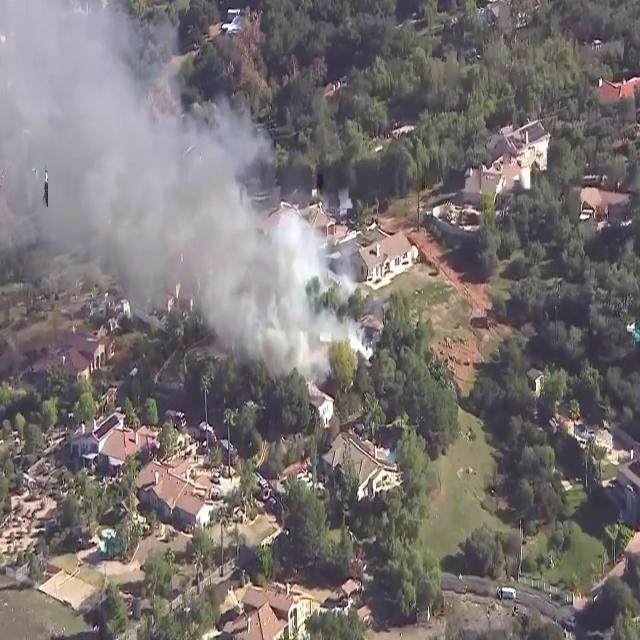Smoke: (0, 2, 352, 409)
